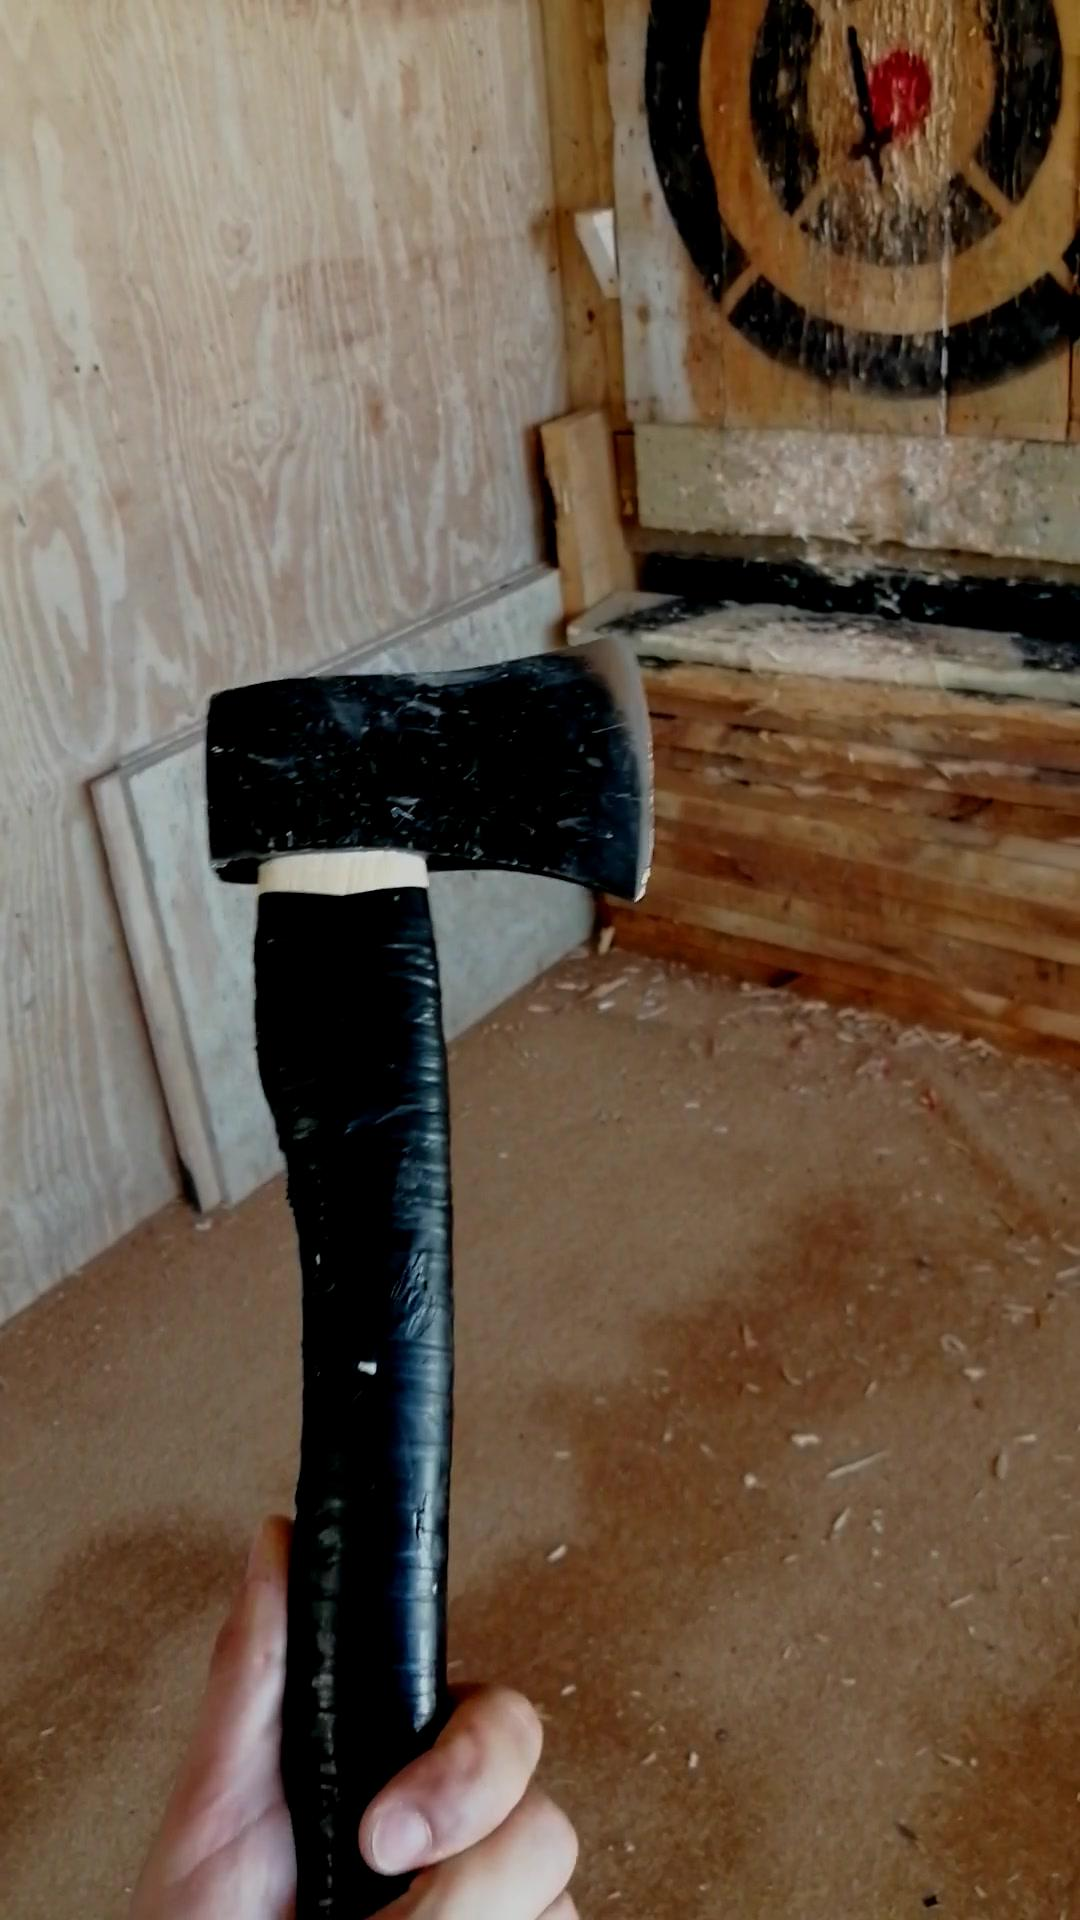Hand Axe: (198, 630, 659, 920)
